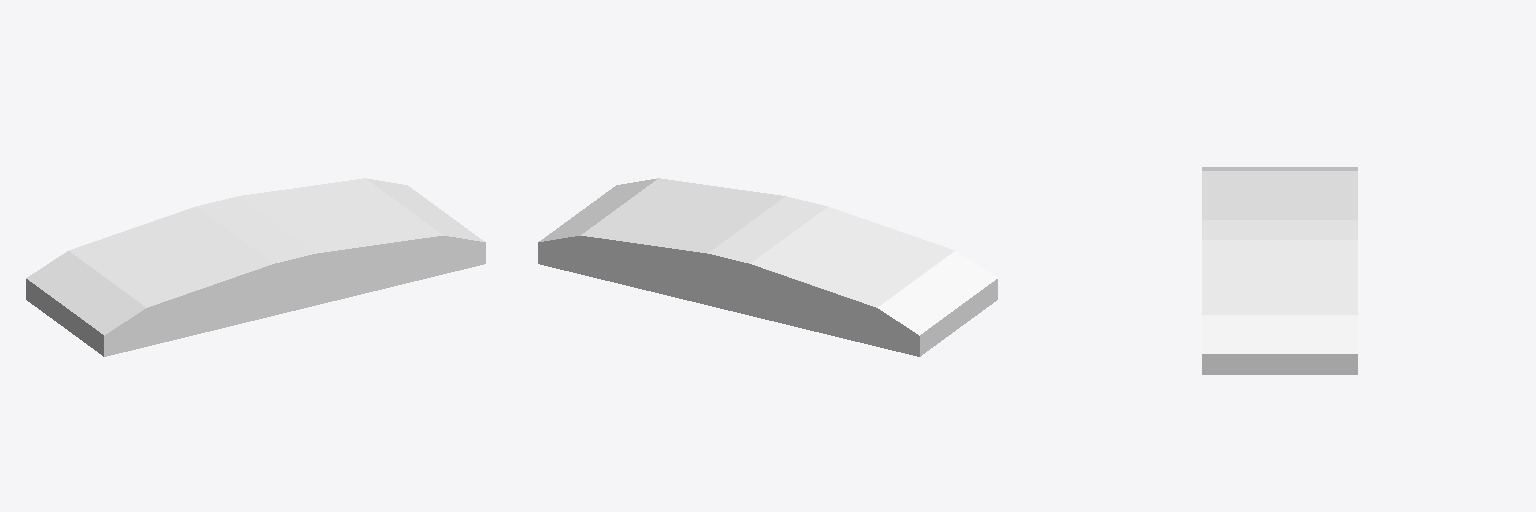
Rendered from Player.obj.
The picture shows the model from 3 angles: view 1: azimuth 30°, elevation 25°; view 2: azimuth 150°, elevation 25°; view 3: azimuth 270°, elevation 25°; orthographic projection.
Visible parts, largest first — view 1: 000_Layer_1; view 2: 000_Layer_1; view 3: 000_Layer_1.
Boxes of the visible parts, box(x1,y1,x2,y2) form: 000_Layer_1: box(26, 178, 485, 356); 000_Layer_1: box(538, 178, 997, 356); 000_Layer_1: box(1202, 167, 1357, 374).
Bounding box in the file's own units: 92.03 × 11.96 × 32.71.